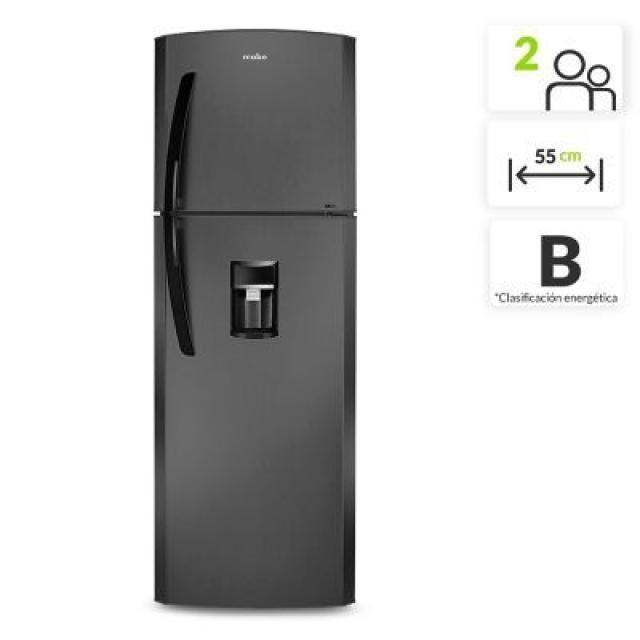obstacle: (152, 27, 357, 608)
